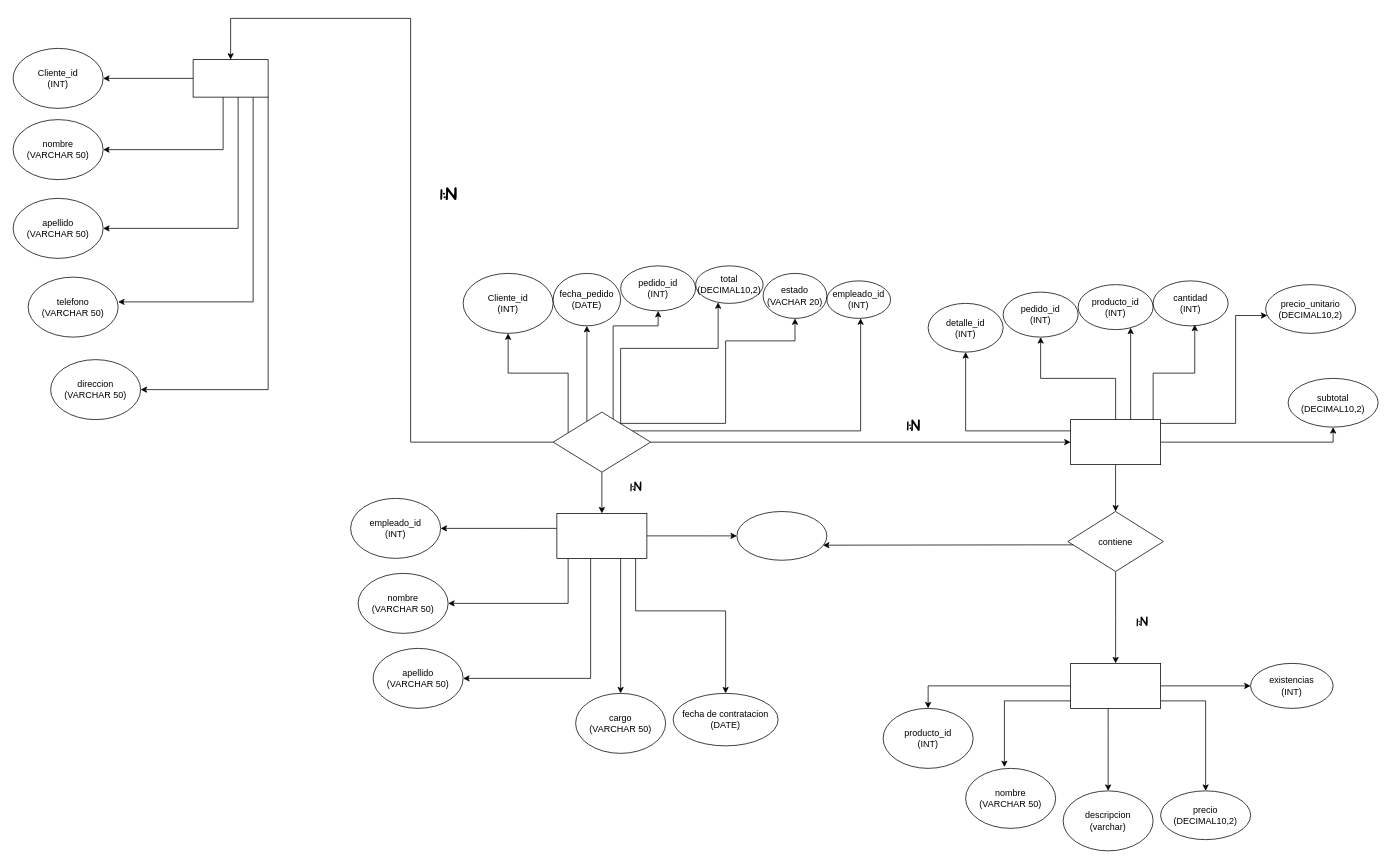
The diagram is 1391 pixels wide and 864 high, and some of its shapes have lost their labels. The shapes that lost their labels are listed below. From the top down, each one's centre as x and y in pixels, then its label:
At point 230,78: "Clientes".
At point 601,441: "tiene pedidos".
At point 1115,442: "detalles_pedido".
At point 601,535: "Empleados".
At point 781,535: "salario (DECIMAL10,2)".
At point 1115,685: "productos".
